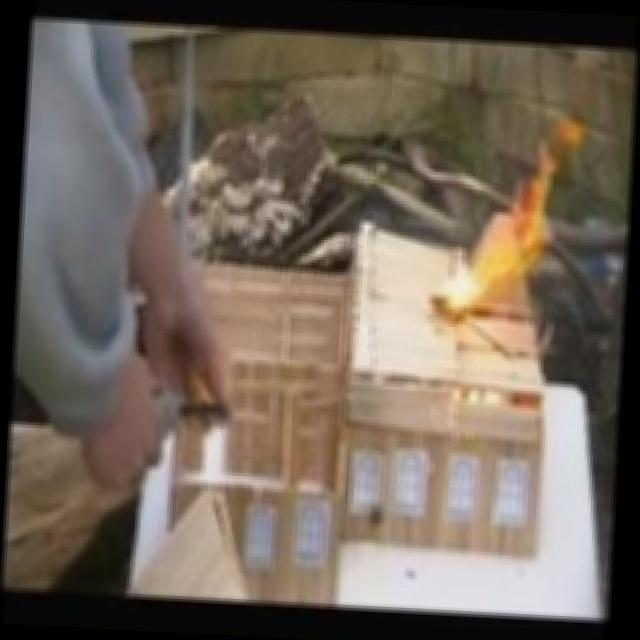fire: (431, 109, 574, 324)
